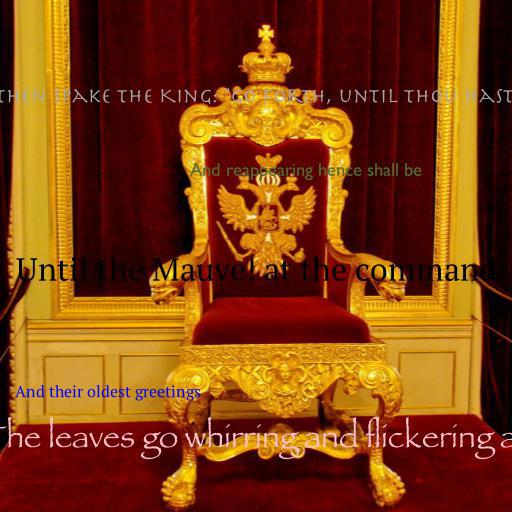Gill Sans: (190, 163, 422, 181)
Herculanum: (0, 88, 512, 105)
PT Serif: (15, 256, 497, 282), (15, 385, 201, 401)
Papyrus: (0, 416, 512, 460)
